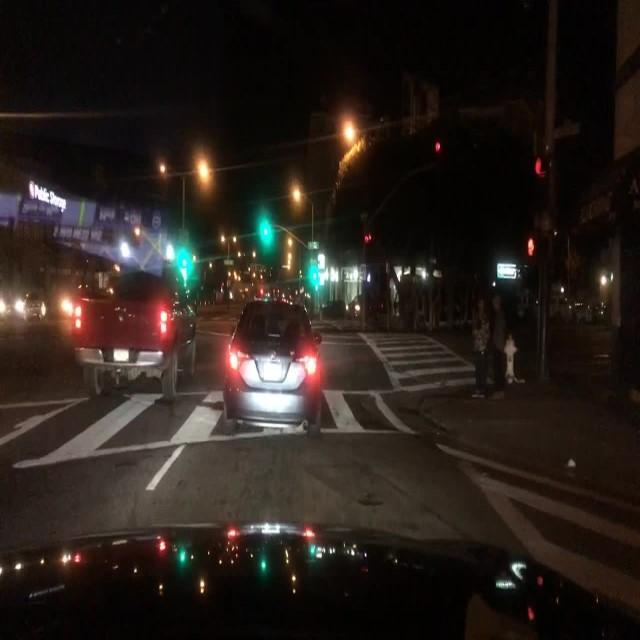normal: (51, 261, 198, 399), (221, 299, 326, 434)
